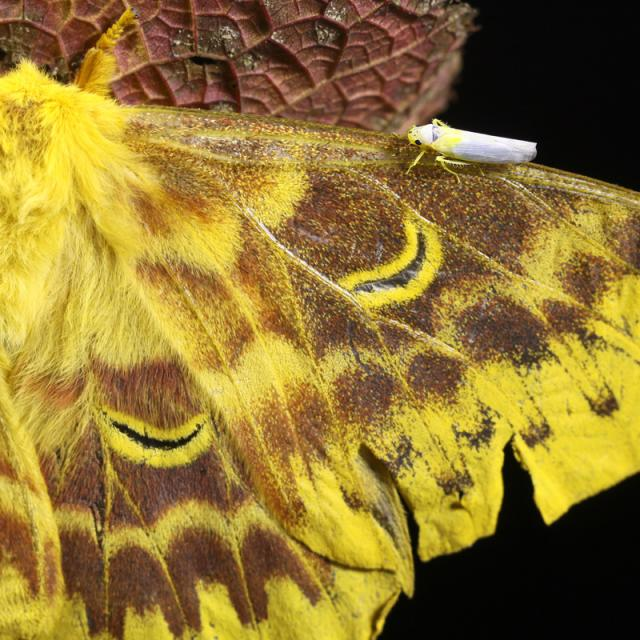Yechan: (394, 114, 546, 181)
